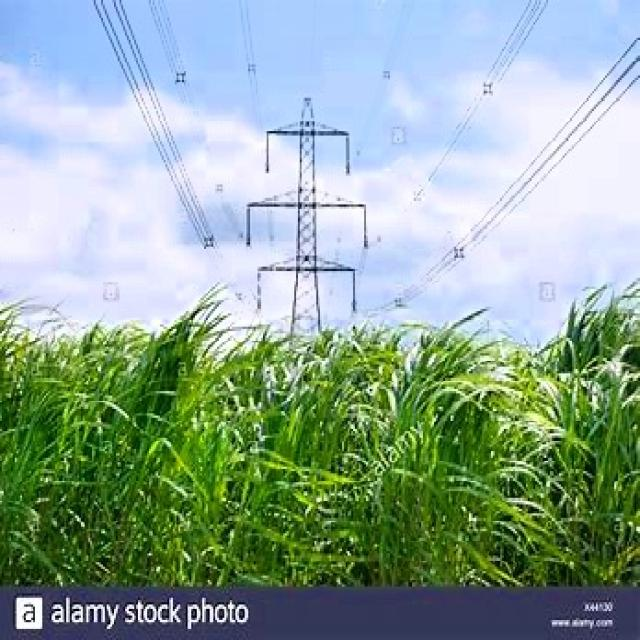utility poles: (242, 79, 372, 578)
